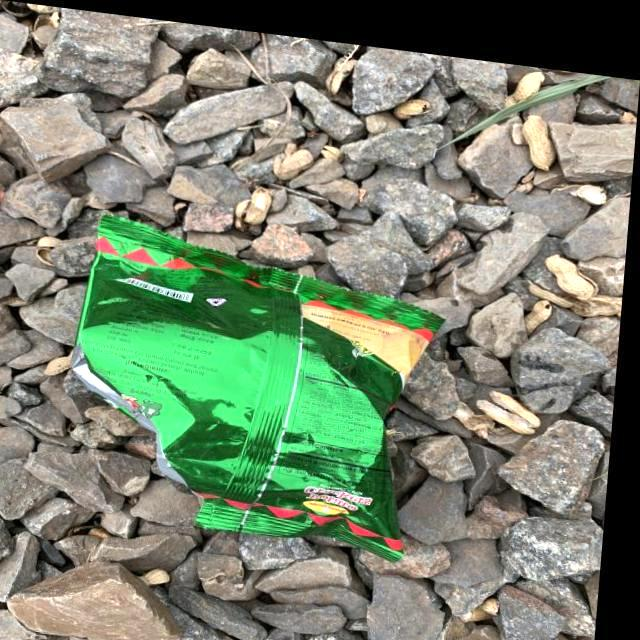packet: (52, 217, 456, 544)
